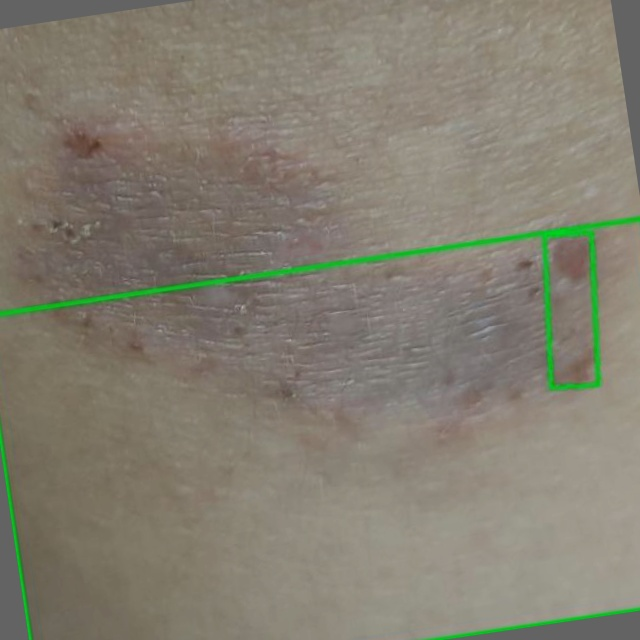Tinea Corporis: (0, 218, 639, 639), (543, 233, 598, 388)
